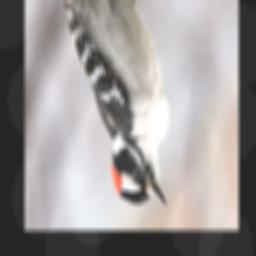Woodpecker: (46, 0, 171, 205)
